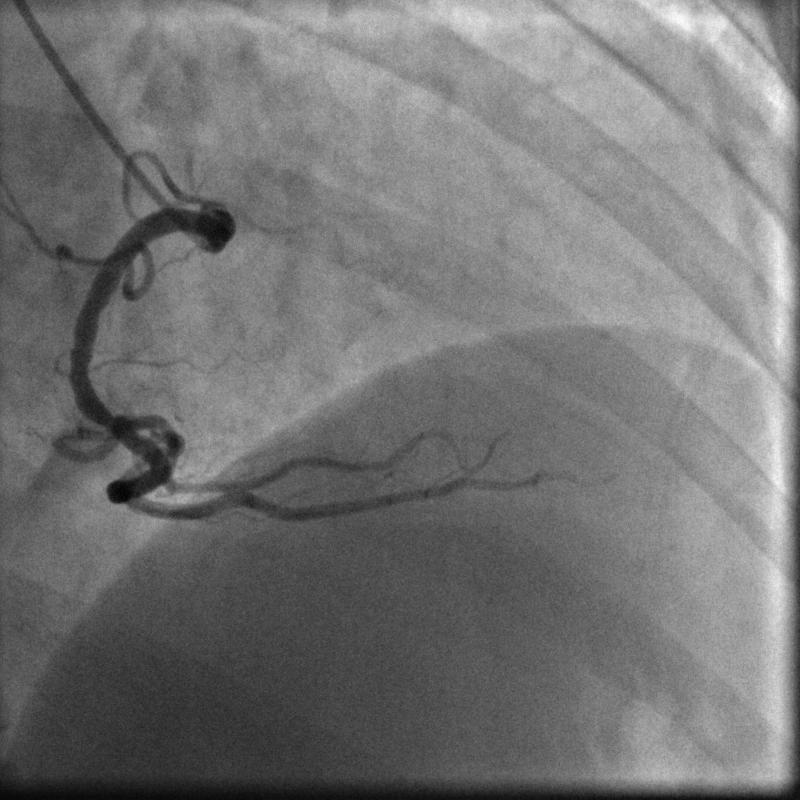Stenosis: (81, 402, 139, 439)
